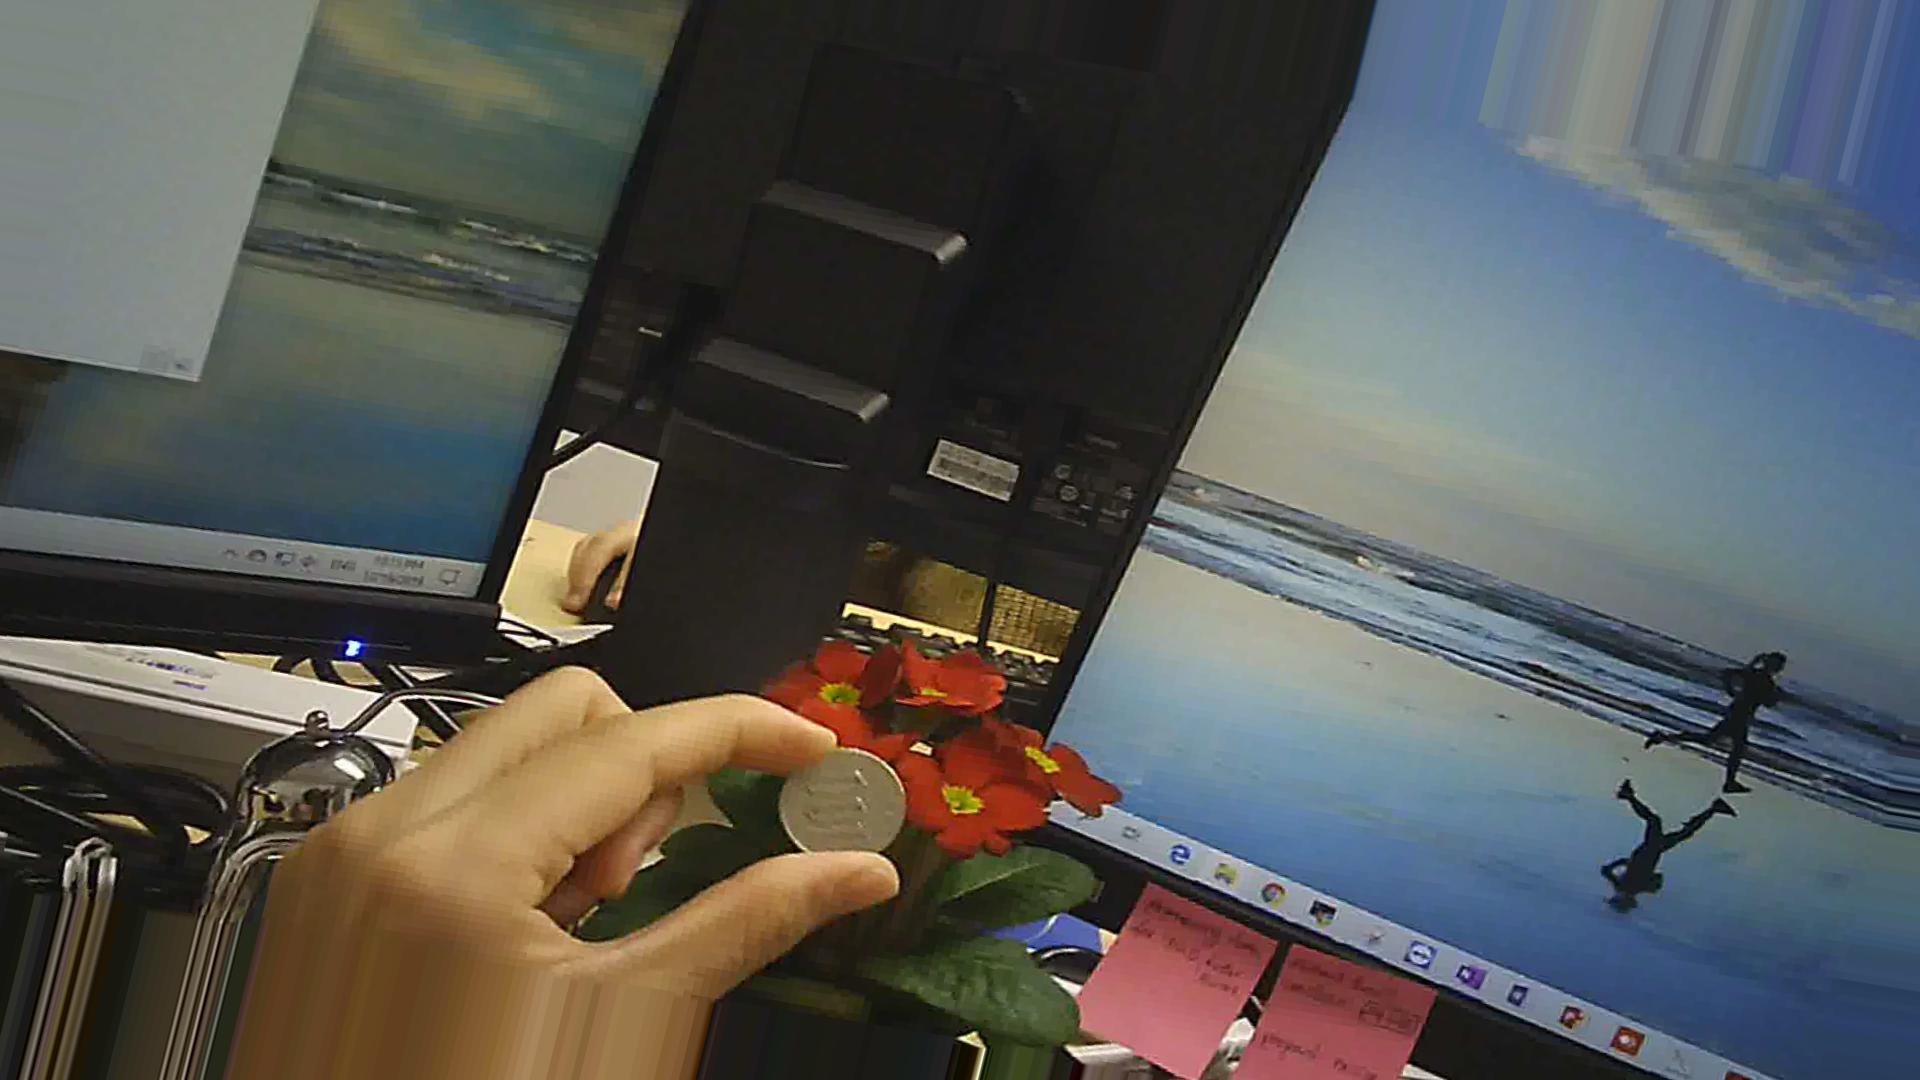100 Yen: (771, 738, 913, 881)
